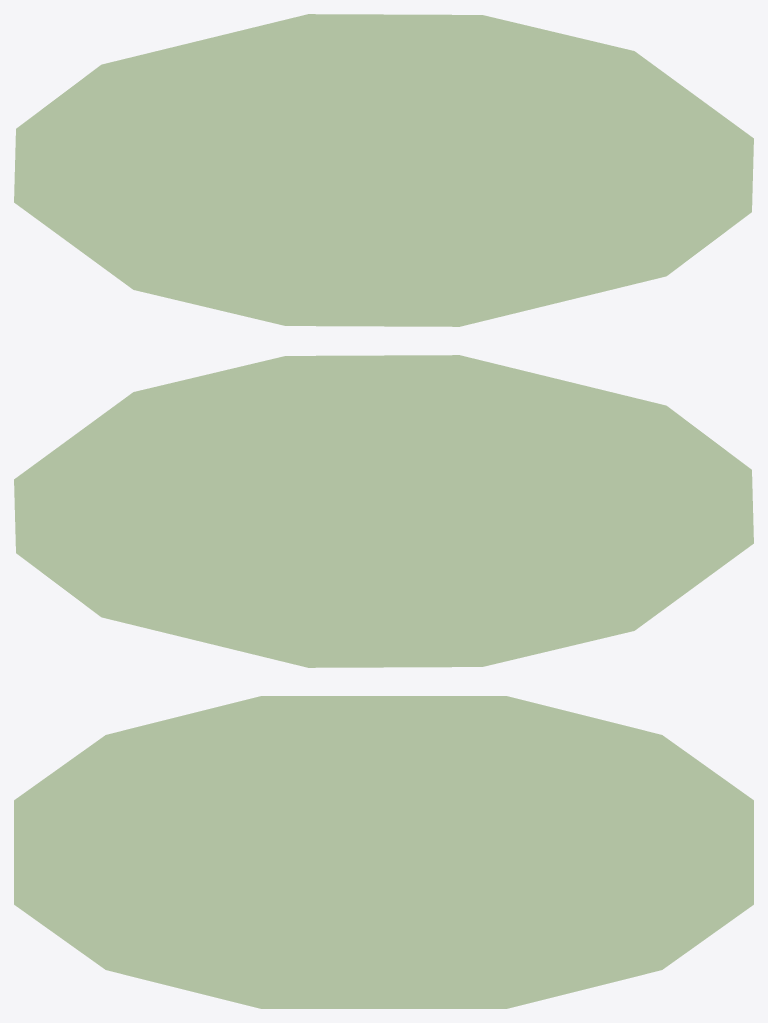
The model's file is dodai.glb.
The picture shows the model from 3 angles, top to bottom: view 1: azimuth 30°, elevation 25°; view 2: azimuth 150°, elevation 25°; view 3: azimuth 270°, elevation 25°; orthographic projection. The views are drawn at different scales.
Parts seen in each view (by area): view 1: 平面.006; view 2: 平面.006; view 3: 平面.006.
Boxes of the visible parts, x1,y1,x2,y2 form: 平面.006: [14, 14, 753, 326]; 平面.006: [14, 355, 753, 667]; 平面.006: [14, 696, 753, 1008].
Size of the model in its own units: 52.15 by 0 by 52.15.
Materials: 1 (1 with a texture image).
